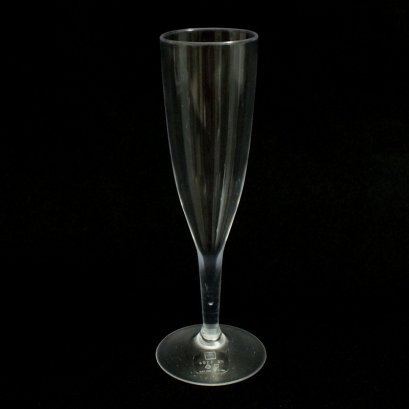plastic_glass: (124, 5, 348, 396)
